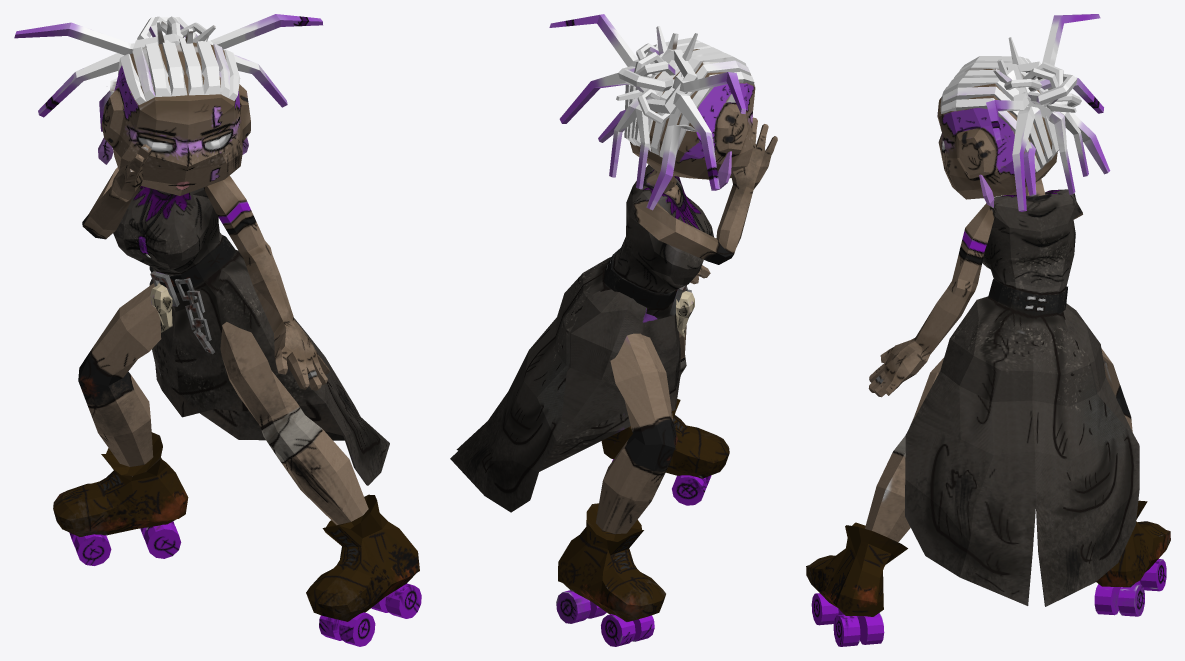
The model's file is bruja_000022.obj.
The picture shows the model from 3 angles, left to right: view 1: azimuth 30°, elevation 25°; view 2: azimuth 150°, elevation 25°; view 3: azimuth 270°, elevation 25°; orthographic projection. The views are drawn at different scales.
Visible parts, largest first — view 1: Bruja_Plane.001; view 2: Bruja_Plane.001; view 3: Bruja_Plane.001.
Boxes of the visible parts, x1=… form: Bruja_Plane.001: x1=14, y1=14, x2=421, y2=646; Bruja_Plane.001: x1=450, y1=14, x2=777, y2=646; Bruja_Plane.001: x1=806, y1=14, x2=1170, y2=646.
Bounding box in the file's own units: 9.32 × 15.44 × 9.24.
